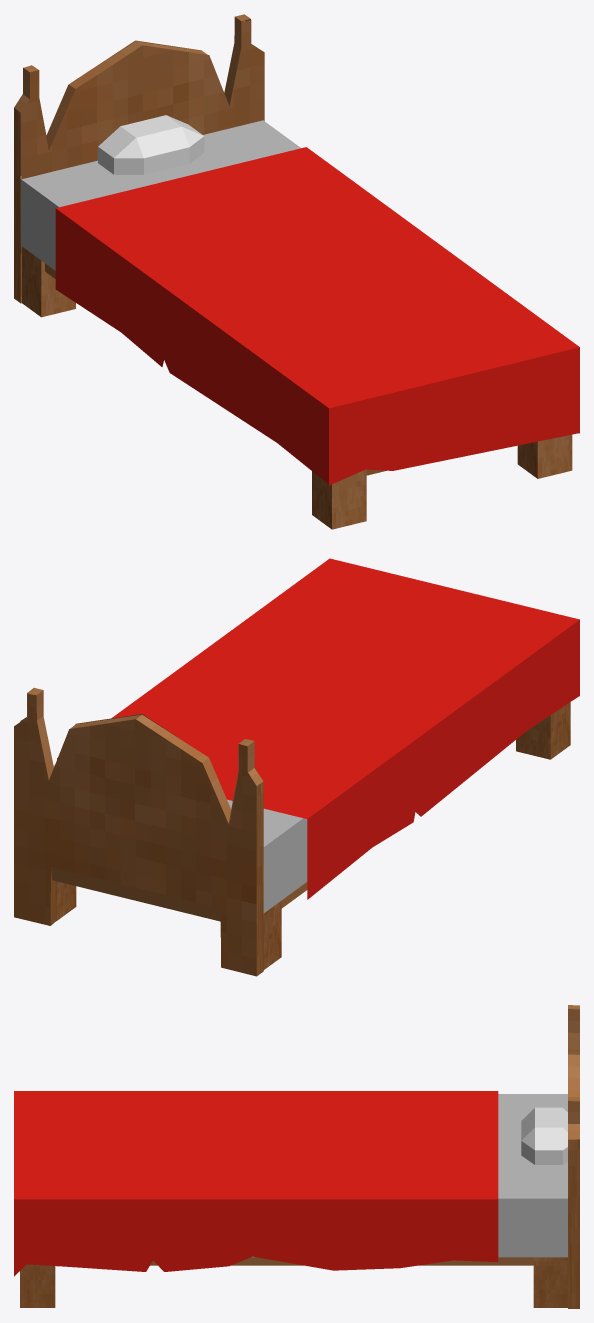
Rendered from OnePersonBed1.glb.
3 renders of one model, top to bottom at view 1: azimuth 30°, elevation 25°; view 2: azimuth 150°, elevation 25°; view 3: azimuth 270°, elevation 25°, orthographic. The views are drawn at different scales.
Parts seen in each view (by area): view 1: Plane, Cube.005, Cube, Cube.006, Cube.002, Cube.004, Cube.001; view 2: Plane, Cube.005, Cube, Cube.002, Cube.004, Cube.003; view 3: Plane, Cube, Cube.005, Cube.006, Cube.003, Cube.001.
Boxes of the visible parts, x1,y1,x2,y2 form: Plane: (55,147,579,485); Cube.005: (14,14,386,475); Cube: (20,120,300,270); Cube.006: (98,115,204,174); Cube.002: (312,469,366,529); Cube.004: (22,246,75,317); Cube.001: (517,434,572,478); Plane: (57,558,579,899); Cube.005: (14,688,307,976); Cube: (53,765,307,913); Cube.002: (516,702,570,759); Cube.004: (263,901,281,969); Cube.003: (55,881,76,921); Plane: (14,1091,498,1276); Cube: (251,1094,567,1257); Cube.005: (150,1005,579,1308); Cube.006: (521,1107,567,1164); Cube.003: (533,1257,567,1307); Cube.001: (20,1264,55,1307).
Size of the model in its own units: 0.8705 by 0.7599 by 1.92.
Materials: 3 (1 with a texture image).
